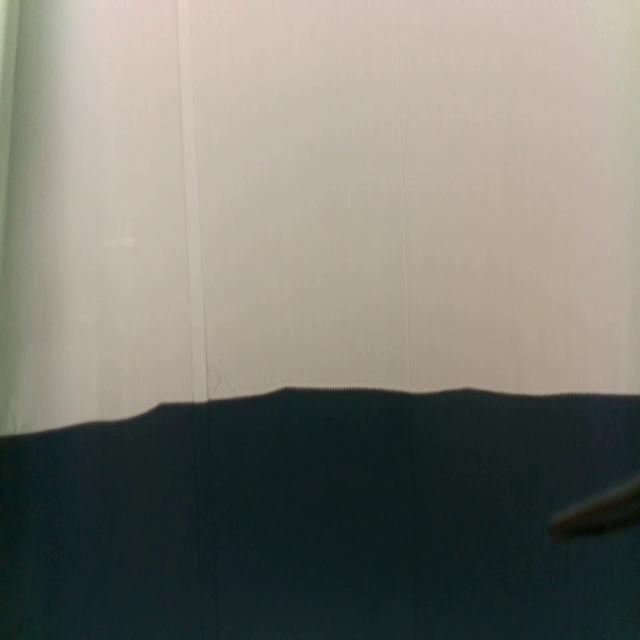crease: (174, 0, 193, 405), (394, 0, 411, 389), (196, 152, 208, 398)
